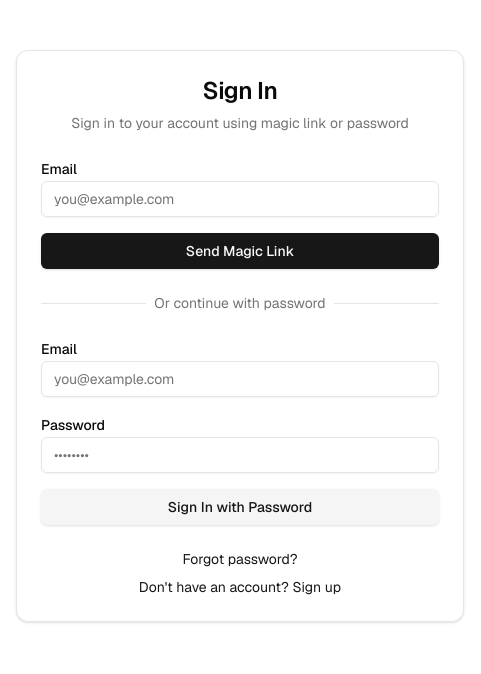
Test case: LoginPage › should handle magic link submission with valid email
Type "test@example.com" into the 1st field labelled "Email" at (240, 199), box x1=41 y1=181 x2=439 y2=217
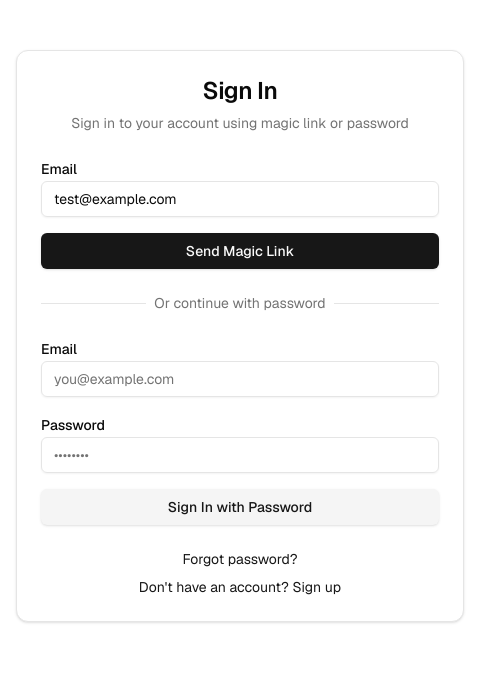
Click the button "Send Magic Link" at (240, 251), box x1=41 y1=233 x2=439 y2=269
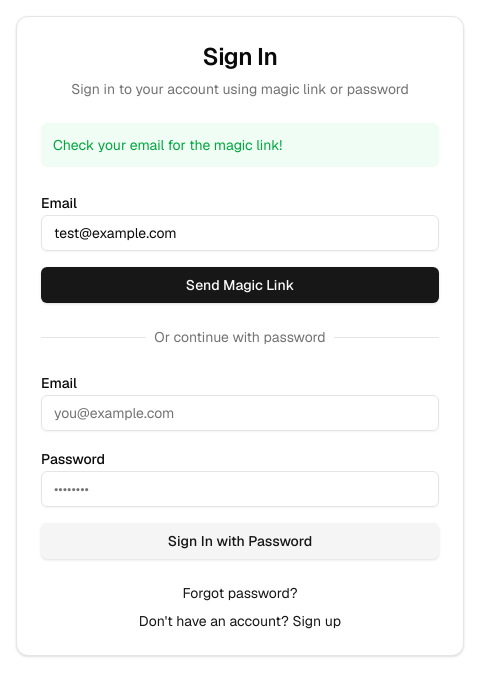
Expected: the text "Check your email for the magic link!" is shown, x1=41 y1=123 x2=439 y2=167
